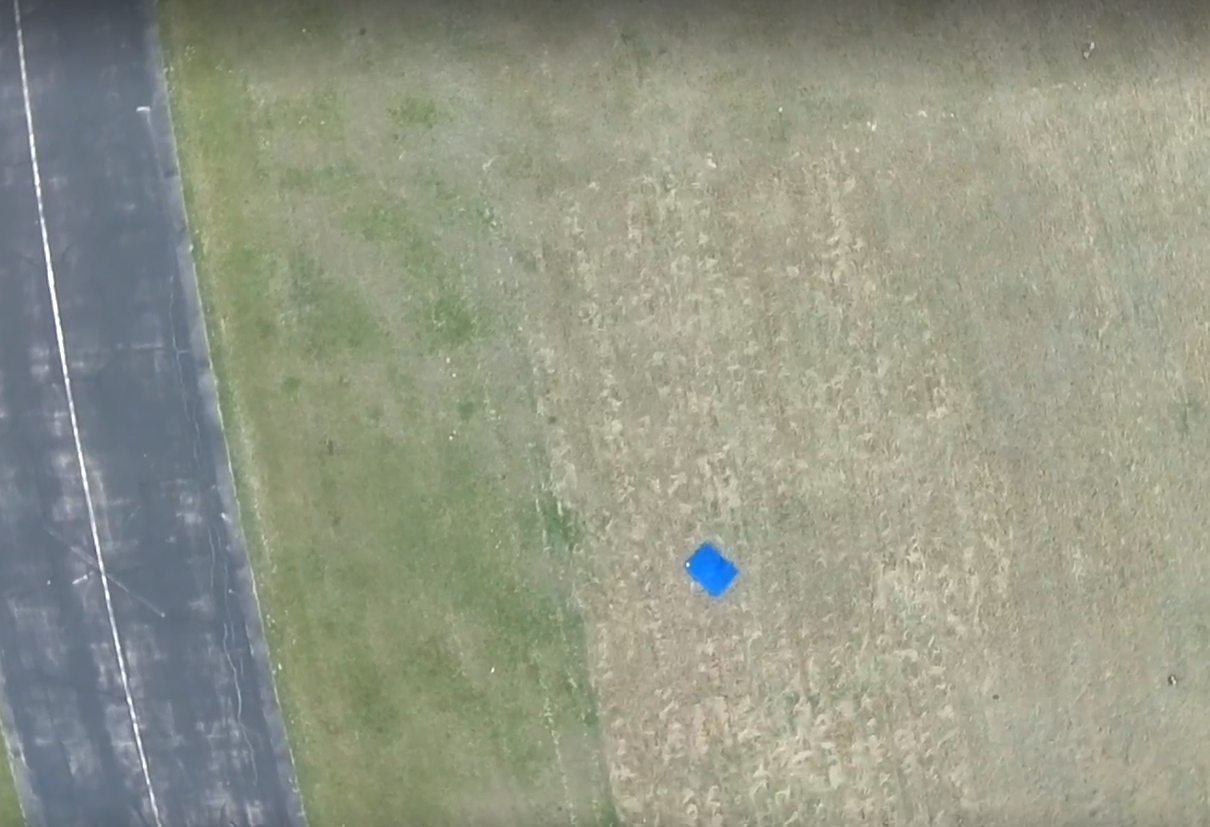TOI: (684, 539, 738, 599)
